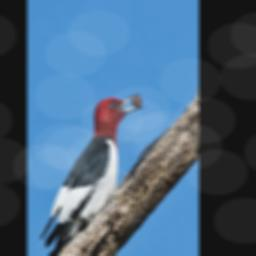Woodpecker: (39, 90, 145, 254)
